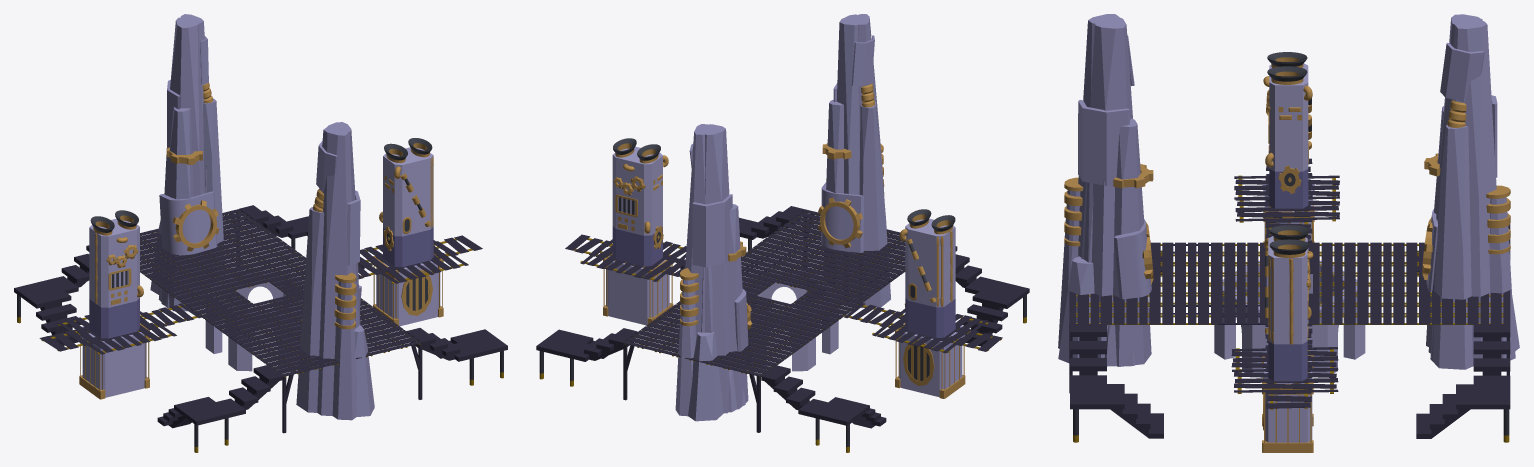
File: Arena_with_homebrew_pillarFRFR.glb
3 views of the same model, side by side, from view 1: azimuth 30°, elevation 25°; view 2: azimuth 150°, elevation 25°; view 3: azimuth 270°, elevation 25° (orthographic). The views are drawn at different scales.
Parts seen in each view (by area): view 1: mergedBlocks(Clone); view 2: mergedBlocks(Clone); view 3: mergedBlocks(Clone).
Boxes of the visible parts, x1,y1,x2,y2 form: mergedBlocks(Clone): [14, 14, 507, 452]; mergedBlocks(Clone): [536, 14, 1029, 452]; mergedBlocks(Clone): [1058, 14, 1519, 452].
Size of the model in its own units: 34.02 by 21.1 by 26.59.
